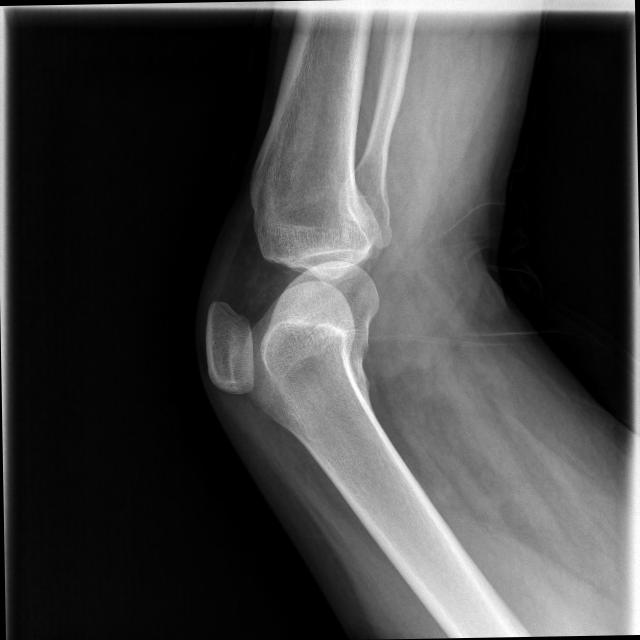Knee: (198, 189, 382, 400)
